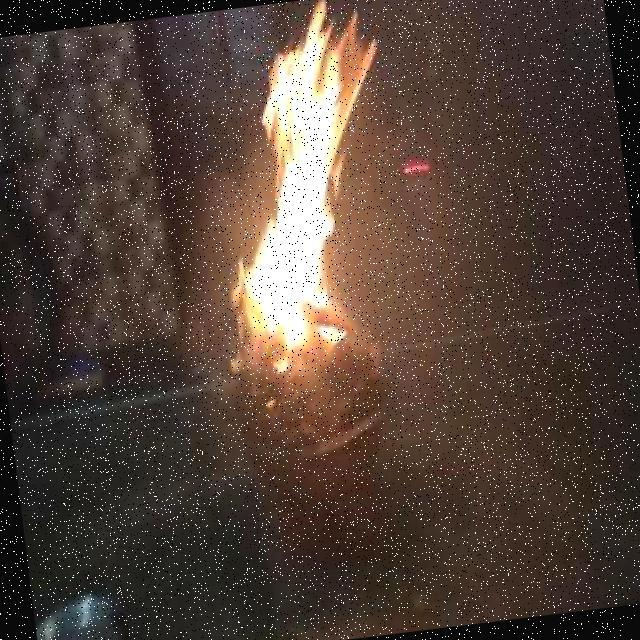Fire: (184, 0, 414, 387)
